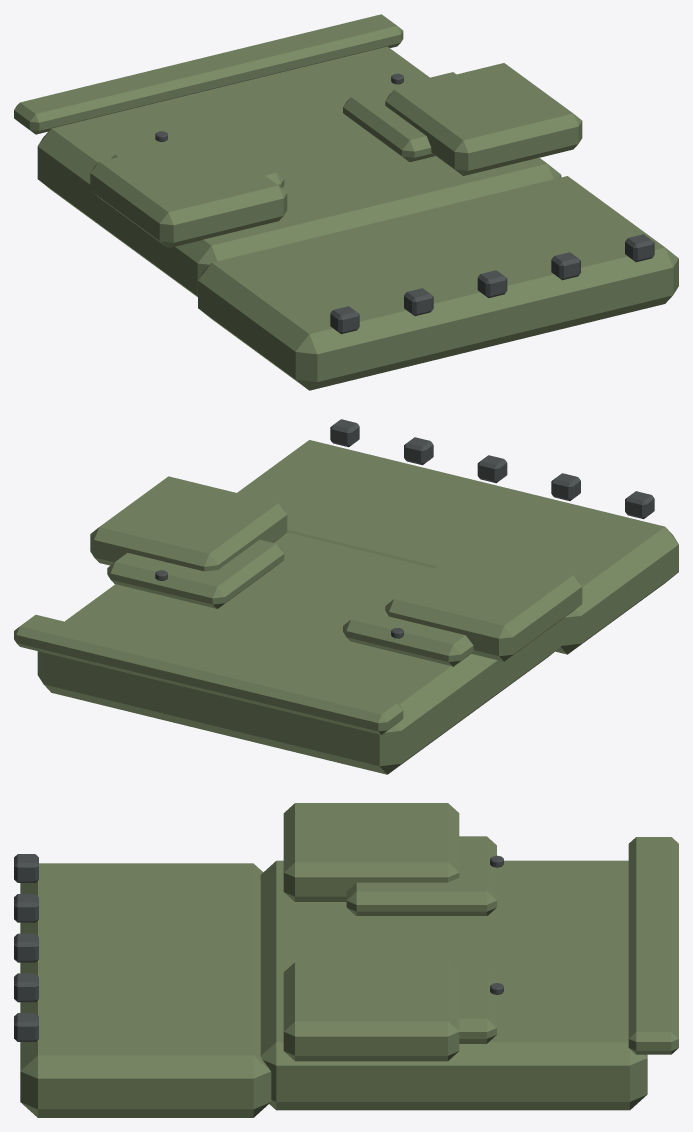
File: item_cargo_pants.glb
3 renders of one model, top to bottom at view 1: azimuth 30°, elevation 25°; view 2: azimuth 150°, elevation 25°; view 3: azimuth 270°, elevation 25°, orthographic. The views are drawn at different scales.
Visible parts, largest first — view 1: item_cargo_pants; view 2: item_cargo_pants; view 3: item_cargo_pants.
Boxes of the visible parts, x1=… form: item_cargo_pants: x1=14, y1=14, x2=678, y2=390; item_cargo_pants: x1=14, y1=419, x2=678, y2=774; item_cargo_pants: x1=14, y1=803, x2=678, y2=1117.
Size of the model in its own units: 0.43 by 0.0965 by 0.53.
